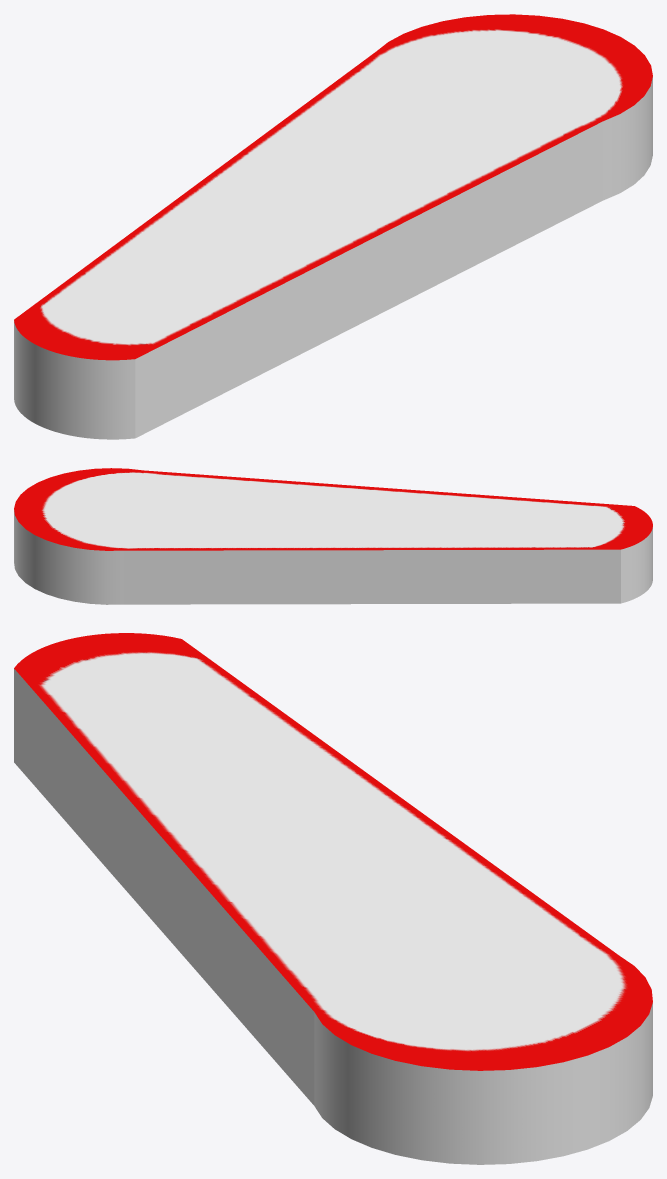
File: Red Flipper.FBX
The picture shows the model from 3 angles, top to bottom: view 1: azimuth 30°, elevation 25°; view 2: azimuth 150°, elevation 25°; view 3: azimuth 270°, elevation 25°; orthographic projection. The views are drawn at different scales.
Parts seen in each view (by area): view 1: Arc003; view 2: Arc003; view 3: Arc003.
Boxes of the visible parts, x1,y1,x2,y2 form: Arc003: [14, 14, 652, 439]; Arc003: [14, 468, 652, 604]; Arc003: [14, 633, 652, 1164].
Size of the model in its own units: 79.89 by 8 by 49.27.
Materials: 1 (1 with a texture image).
